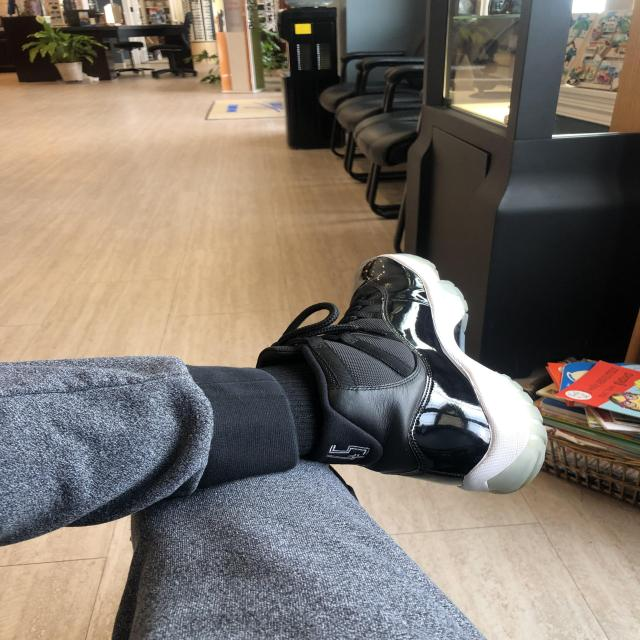shoe: (252, 243, 564, 511)
